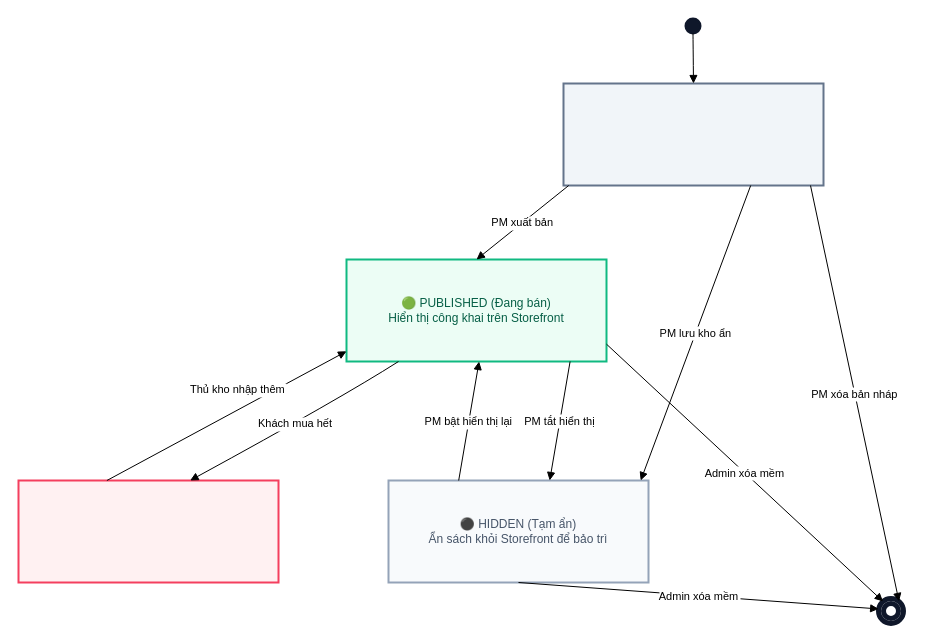
Image size: 925x643. Some labels were removed from this diagram. Each missing label, with the centre of its shape:
"📋 DRAFT (Bản nháp) PM tạo mới và biên soạn thông tin" belongs at point 693,134.
"🔴 OUT_OF_STOCK (Hết hàng) Số lượng tồn kho bằng 0" belongs at point 148,531.
